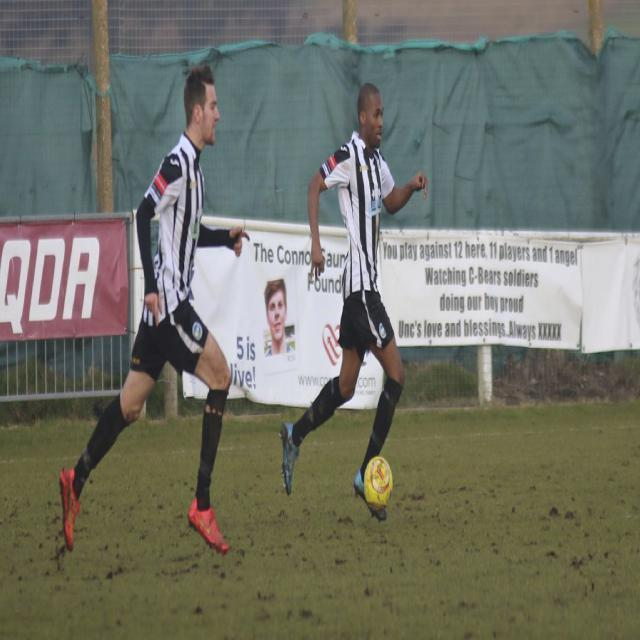ball: (365, 454, 395, 515)
